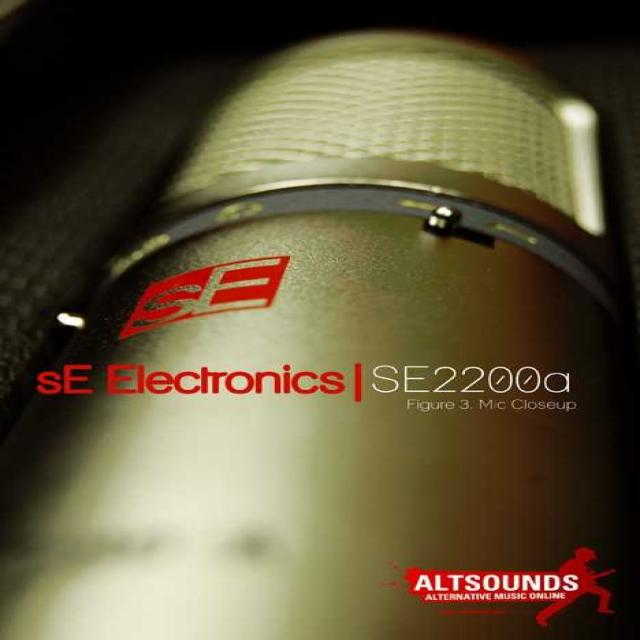microphone: (22, 26, 620, 634)
